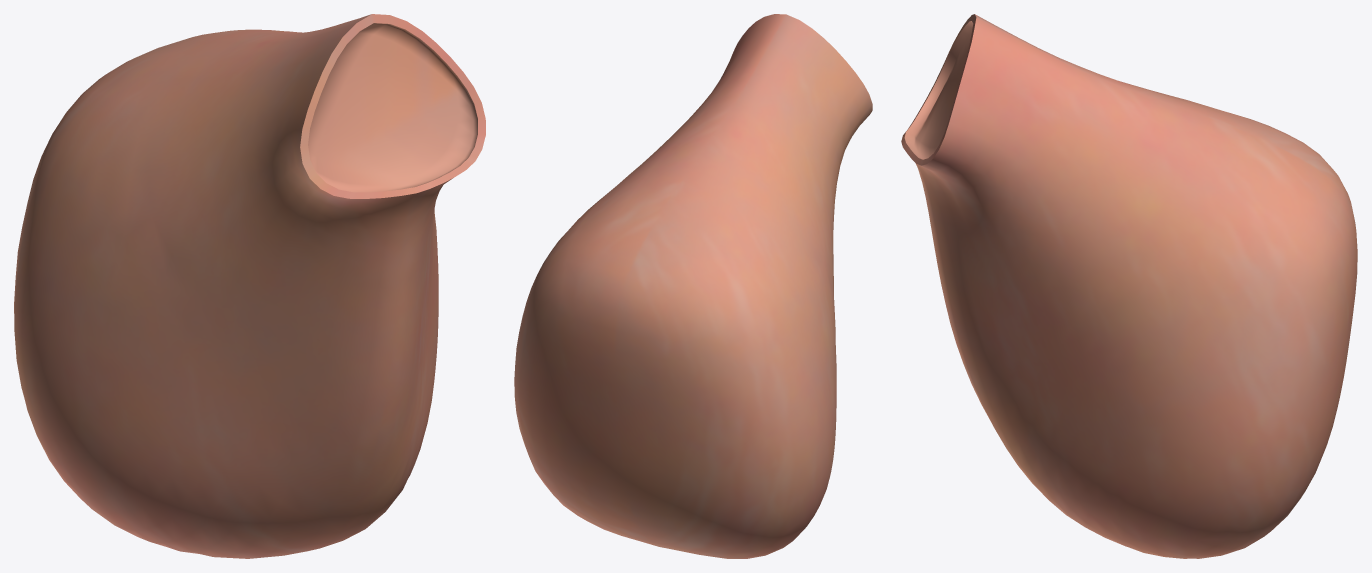
File: Gizzard.fbx
The picture shows the model from 3 angles, left to right: view 1: azimuth 30°, elevation 25°; view 2: azimuth 150°, elevation 25°; view 3: azimuth 270°, elevation 25°; orthographic projection. The views are drawn at different scales.
Parts seen in each view (by area): view 1: Gizzard_LOD0; view 2: Gizzard_LOD0; view 3: Gizzard_LOD0.
Boxes of the visible parts, left/top/right/bottom form: Gizzard_LOD0: left=14, top=14, right=485, bottom=558; Gizzard_LOD0: left=514, top=14, right=872, bottom=558; Gizzard_LOD0: left=901, top=14, right=1357, bottom=558.
Size of what is drawn, in the model's own units: 0.1898 by 0.2868 by 0.2324.
1 material, 1 textured.
